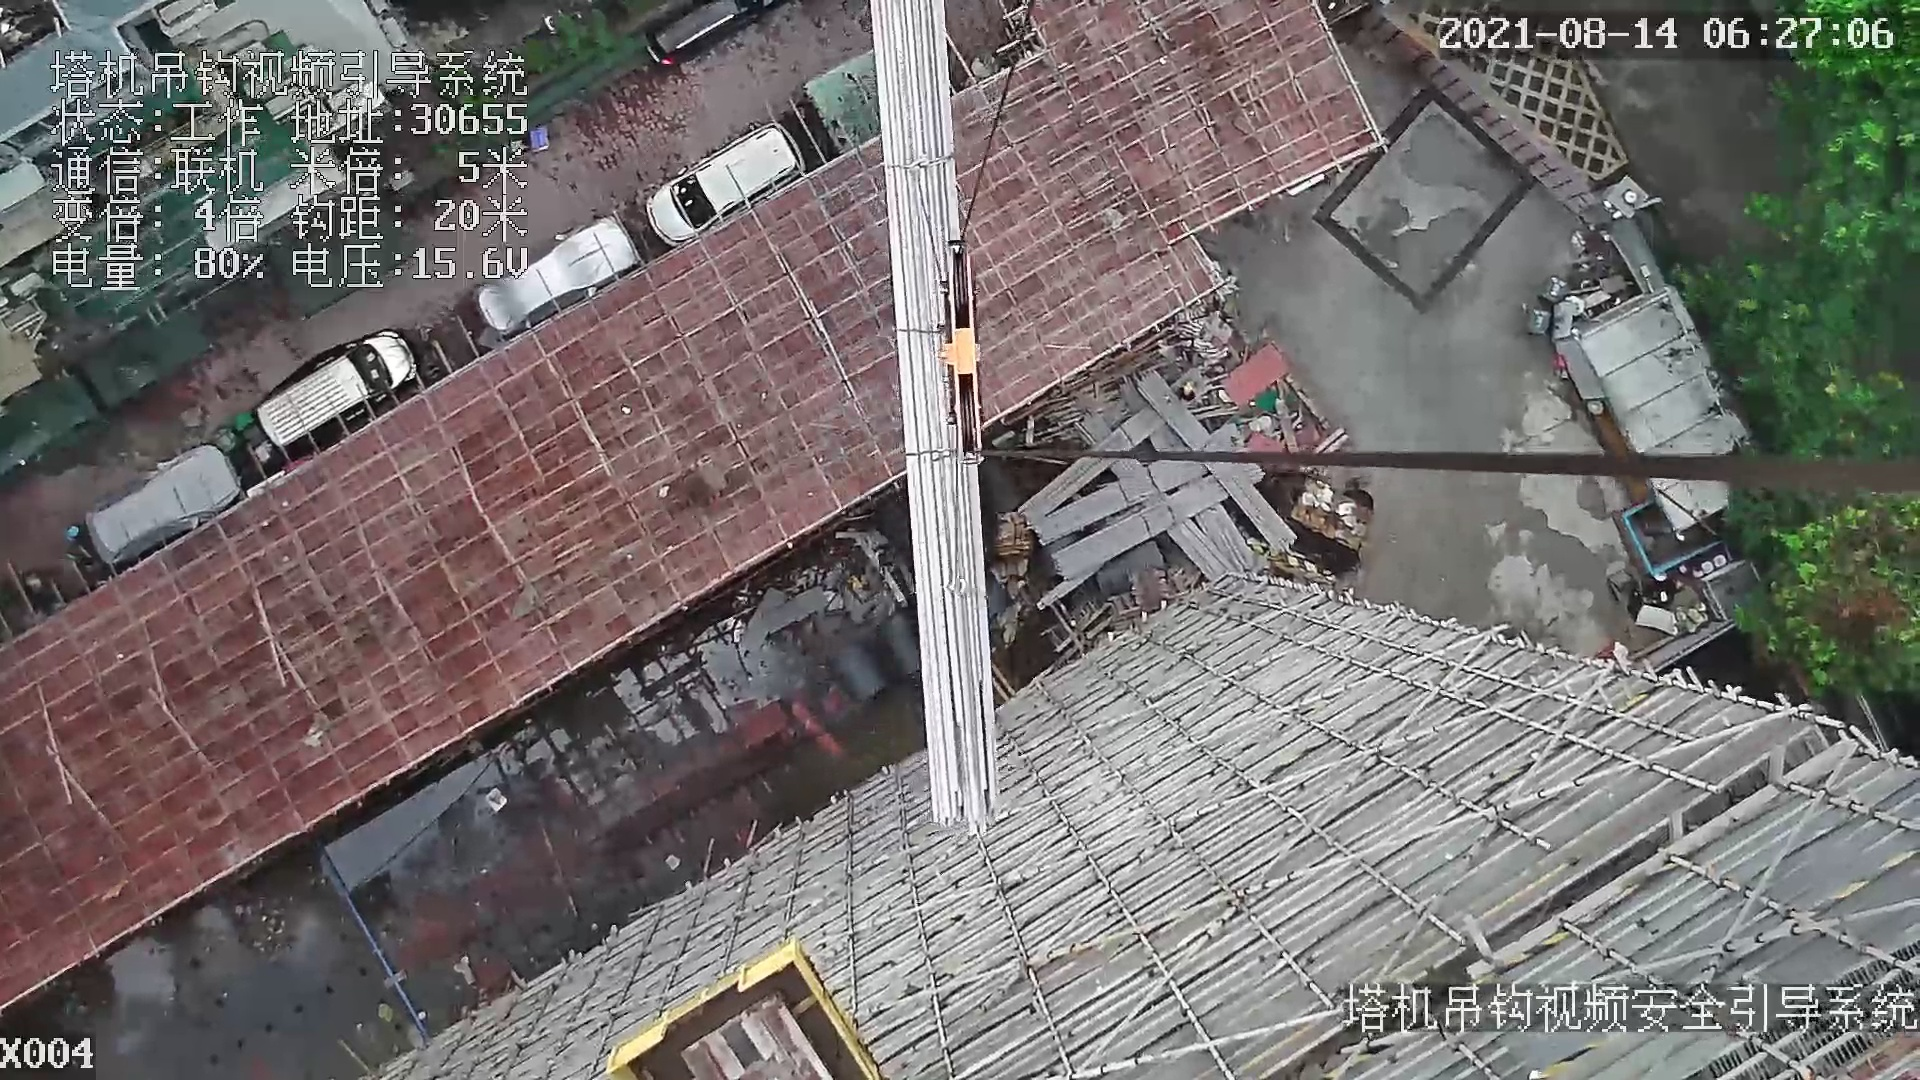hook: (934, 235, 1006, 467)
